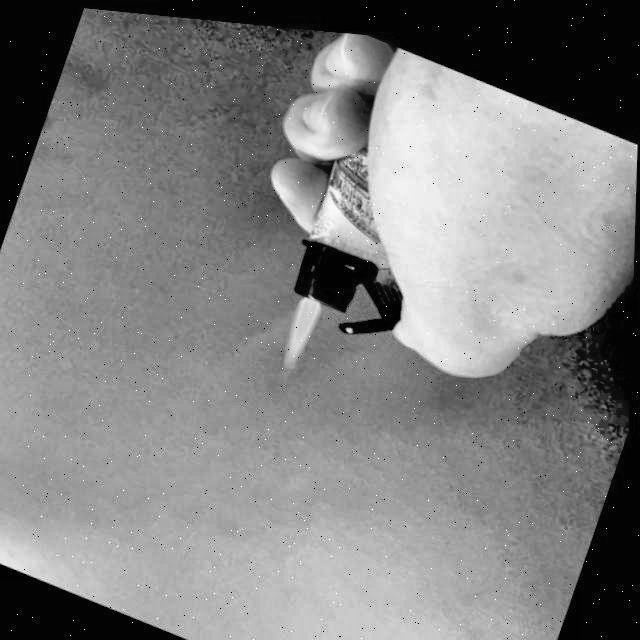Fire: (272, 283, 330, 372)
